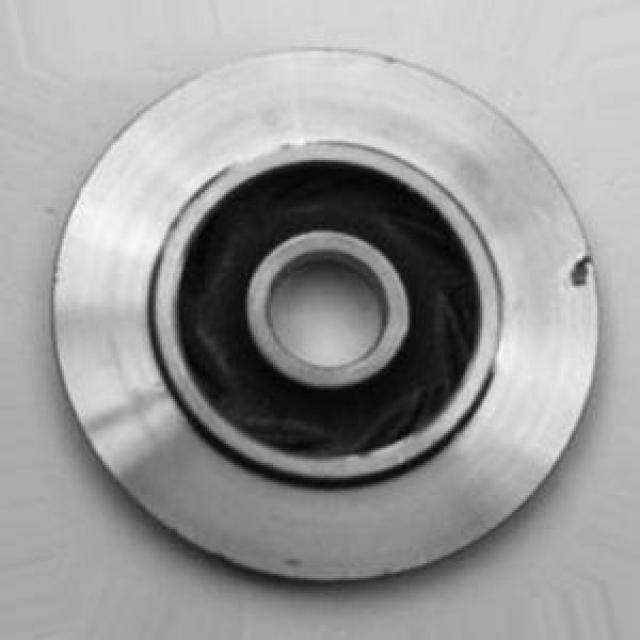Defect: (559, 248, 601, 295)
